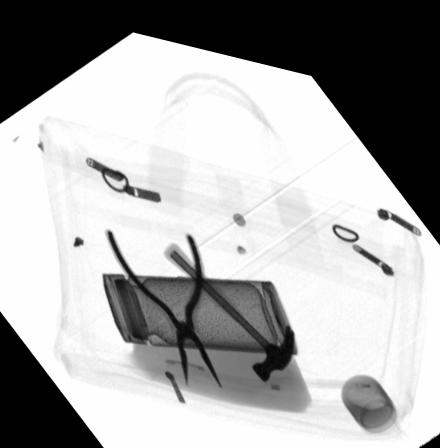Hammer: (163, 233, 296, 368)
Pliers: (104, 222, 222, 377)
